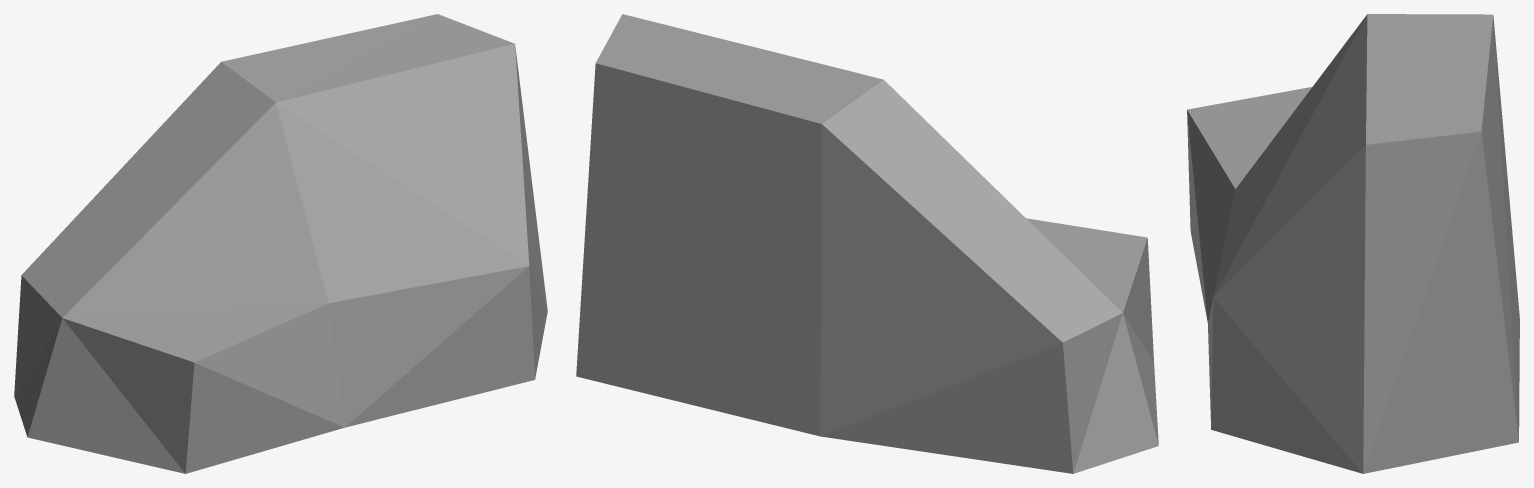
File: Isl_12_Rock_1.fbx
3 views of the same model, side by side, from view 1: azimuth 30°, elevation 25°; view 2: azimuth 150°, elevation 25°; view 3: azimuth 270°, elevation 25° (orthographic). The views are drawn at different scales.
Visible parts, largest first — view 1: Isl_12_Rock_1; view 2: Isl_12_Rock_1; view 3: Isl_12_Rock_1.
Boxes of the visible parts, x1,y1,x2,y2 form: Isl_12_Rock_1: [14, 14, 547, 473]; Isl_12_Rock_1: [576, 14, 1158, 473]; Isl_12_Rock_1: [1187, 14, 1519, 473].
Bounding box in the file's own units: 146 × 71.43 × 73.74.
Materials: 1 (1 with a texture image).
